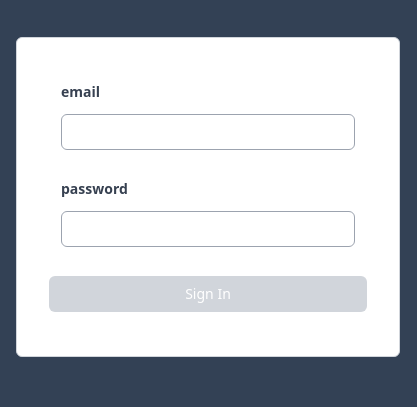
Scenario: Auth Page › should submit input to login › fail to login
The image size is (417, 407).
In the field named "email": (208, 132) [61,114,355,150], type "cos4338@gmail.com"
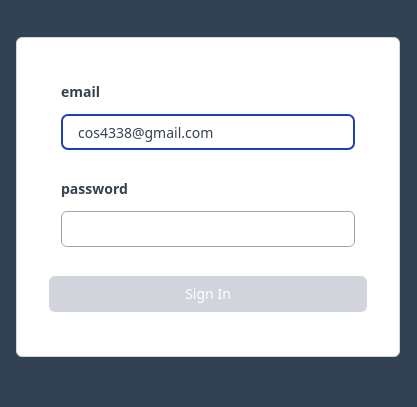
In the password field named "password": (208, 229) [61,211,355,247], type "123456789"
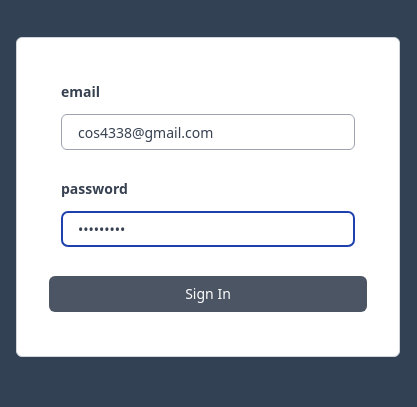
Click the button "Sign In": (208, 294) [49,276,367,312]
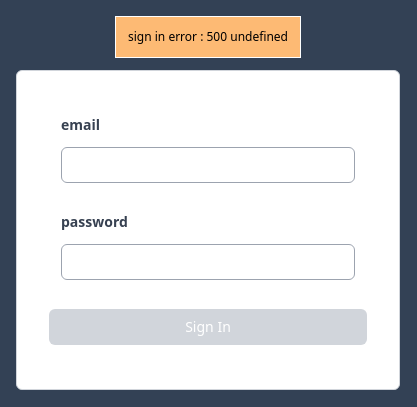
Expected: the field named "email" is empty, [61,147,355,183]
Expected: the text "sign in error : 500 undefined" is shown, [115,16,301,58]
